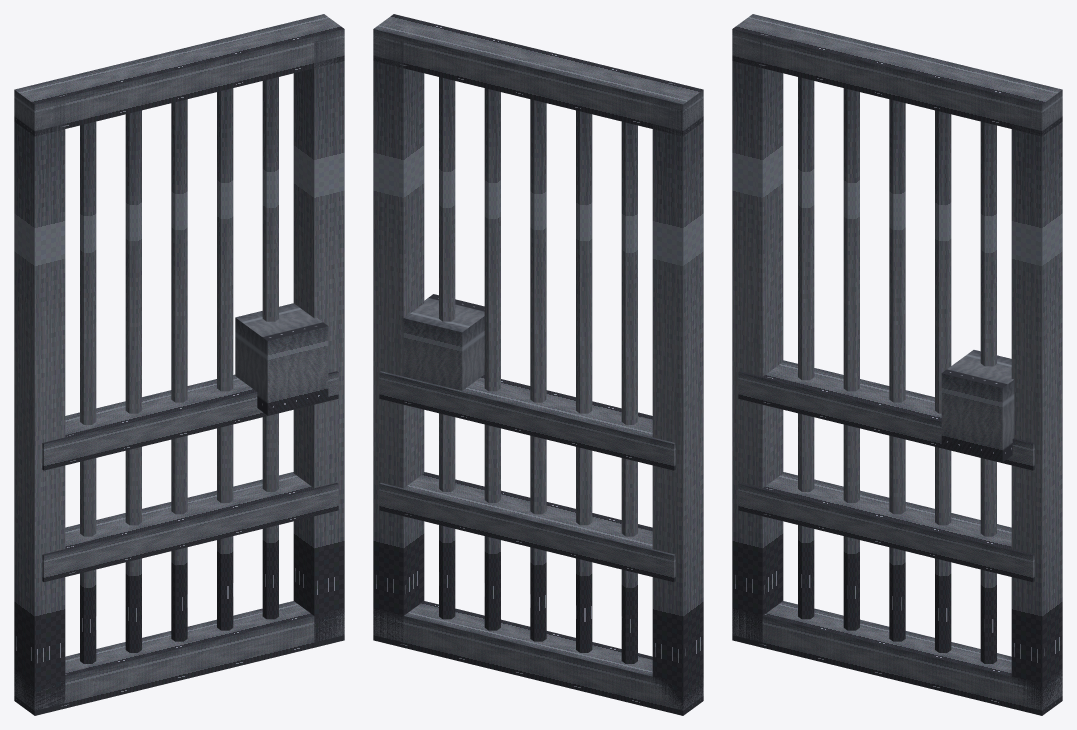
File: prisao_porta_de_cela_nivel_1.glb
The picture shows the model from 3 angles, left to right: view 1: azimuth 30°, elevation 25°; view 2: azimuth 150°, elevation 25°; view 3: azimuth 330°, elevation 25°; orthographic projection.
Visible parts, largest first — view 1: prisao_porta_de_cela_nivel_1; view 2: prisao_porta_de_cela_nivel_1; view 3: prisao_porta_de_cela_nivel_1.
Part boxes in pixels (x1,y1,x2,y2): prisao_porta_de_cela_nivel_1: (14,14,344,715); prisao_porta_de_cela_nivel_1: (373,14,703,715); prisao_porta_de_cela_nivel_1: (732,14,1062,715).
Size of the model in its own units: 1.22 by 2.3 by 0.23.
1 material, 1 textured.
